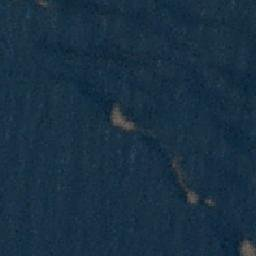debris: (108, 103, 134, 131), (171, 155, 182, 183), (183, 185, 200, 203), (241, 237, 256, 249), (205, 197, 218, 206), (39, 1, 49, 9)
